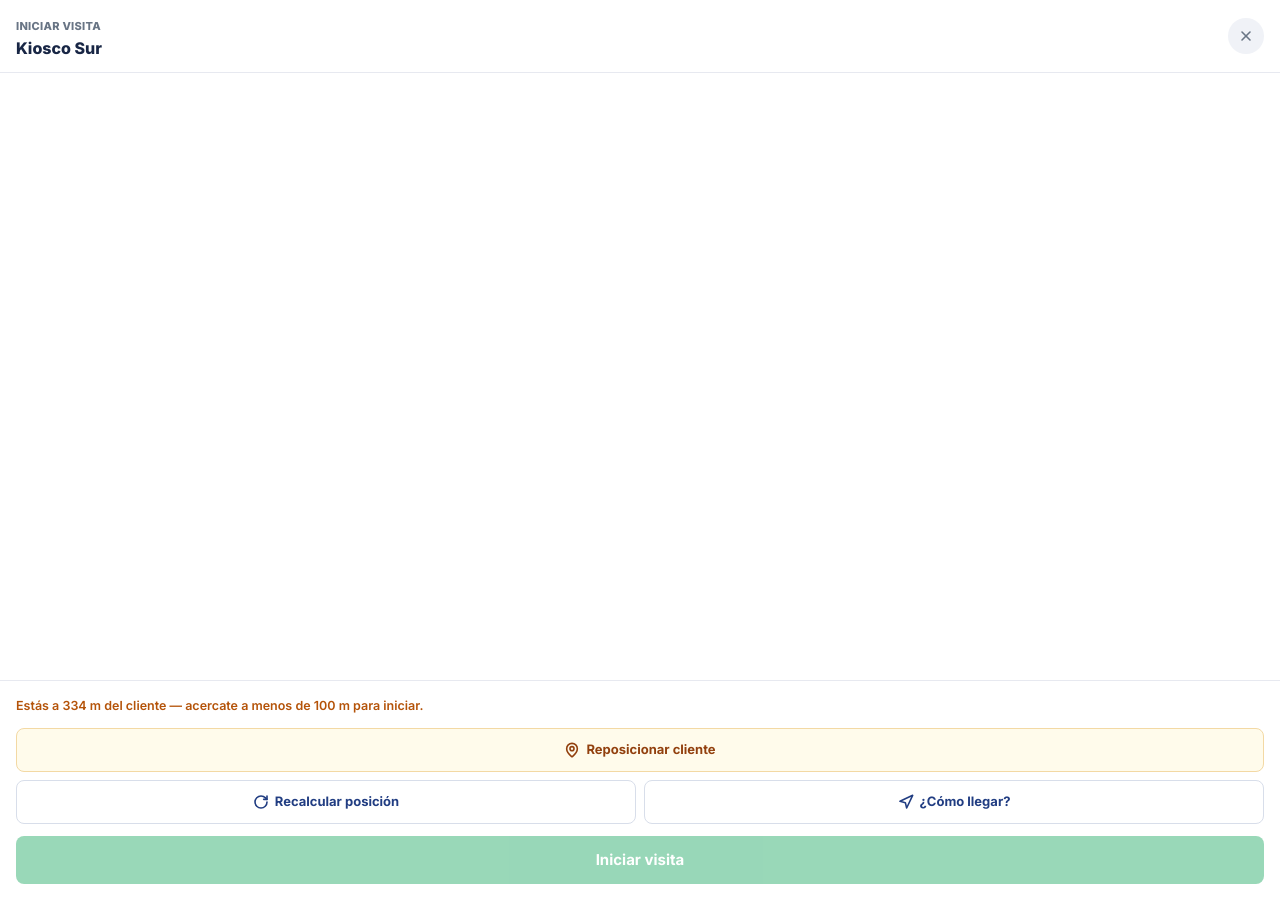
Test: reposicionar mueve el pin, recalcula sin esperar un nuevo fix, y avisa el ajuste
Expected: the text "acercate a menos de 100 m" is shown, [166,698,423,713]
Expected: the button "Iniciar visita" is disabled, [16,836,1264,884]
Click the button "Reposicionar cliente" at (640, 750), box [16,728,1264,772]
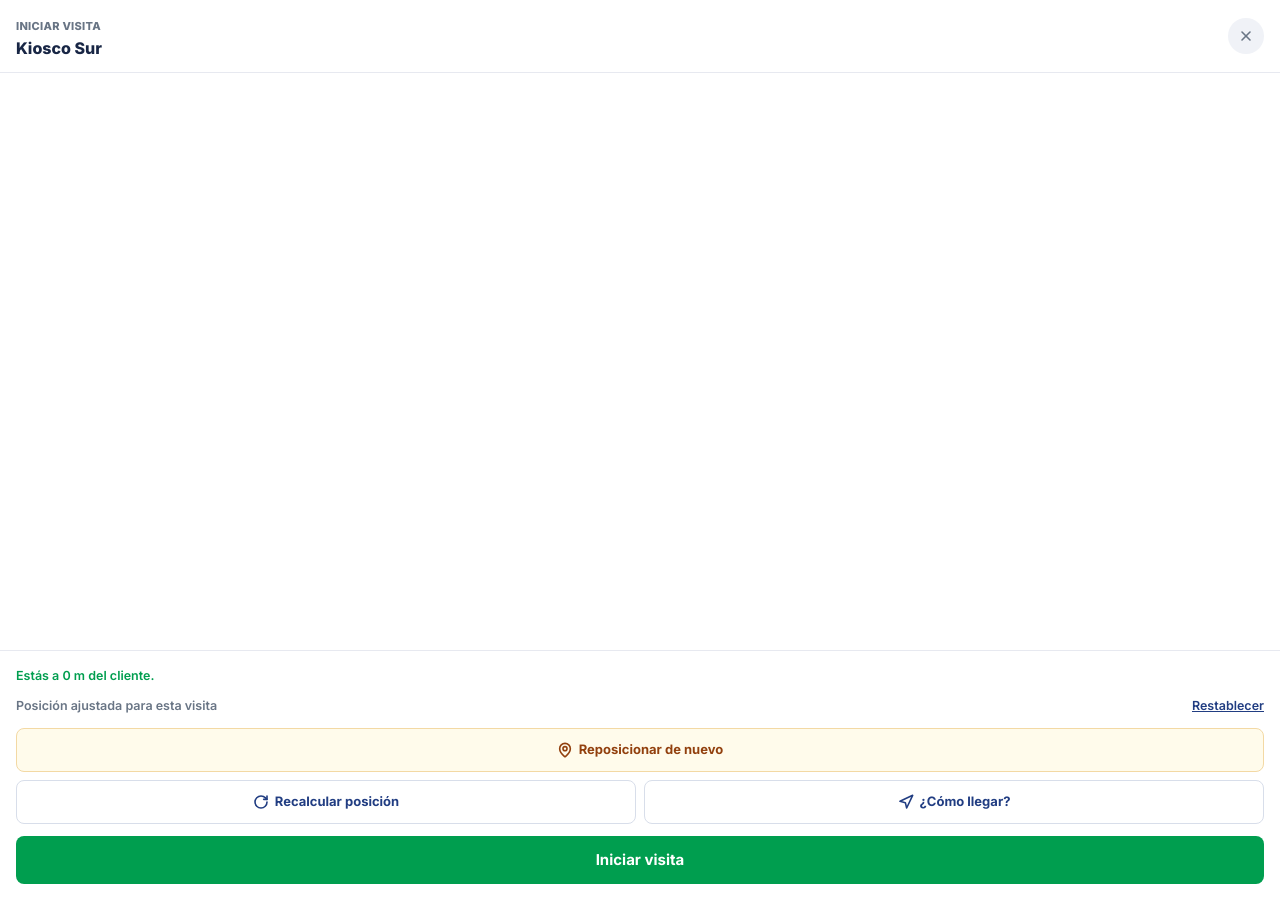
Now the text "Posición ajustada para esta visita" is shown, box [16,697,217,716]
Now the text "acercate a menos de 100 m" is gone
Now the button "Iniciar visita" is enabled, box [16,836,1264,884]
